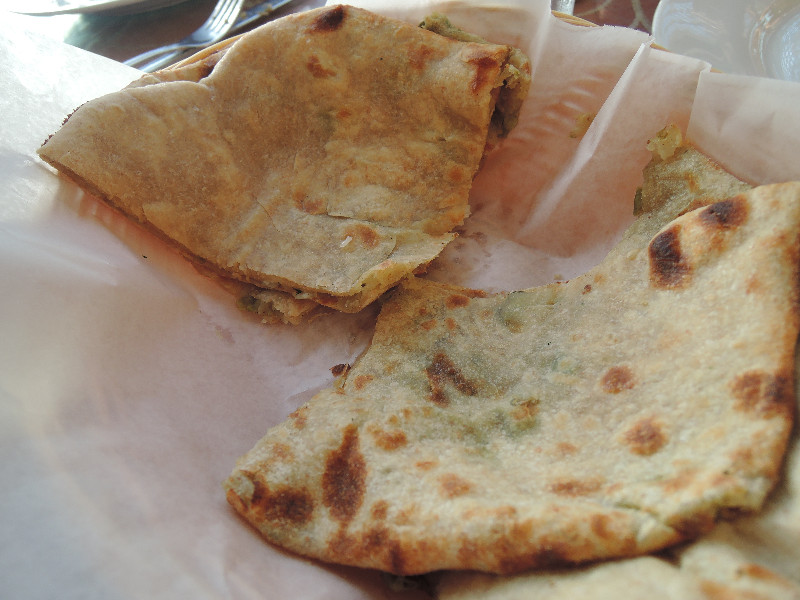aloo_paratha: (219, 177, 799, 596), (40, 9, 522, 308)
